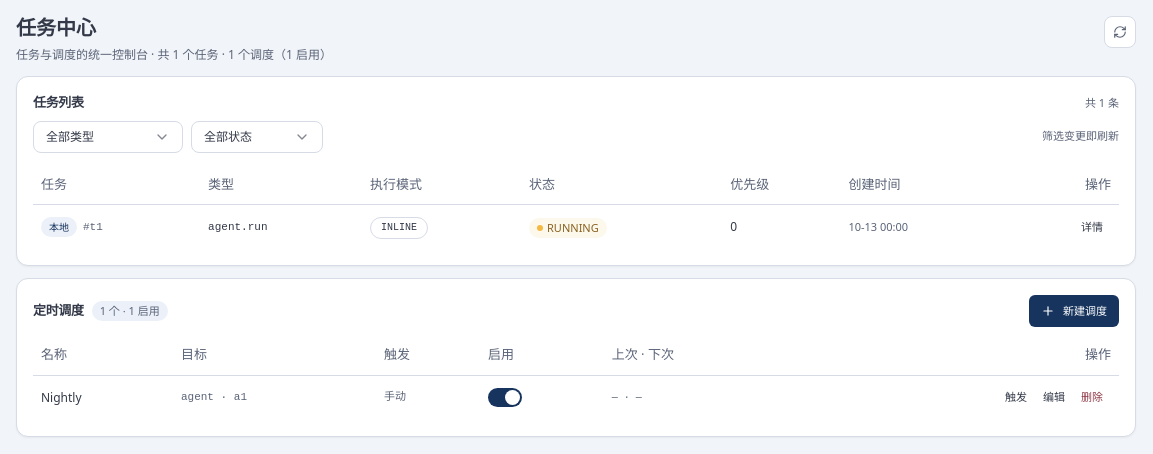
Scenario: Tasks › Schedules 区展示调度并可手动触发
The width and height of the screenshot is (1153, 454).
Expected: the row with test id "schedule-row-s1" shows "Nightly", [41,388,82,406]
What coordinates should you click on to do the following:
click the button with test id "schedule-trigger-s1"
I would click on:
 (1016, 398)
Its box is [997,384,1035,412].
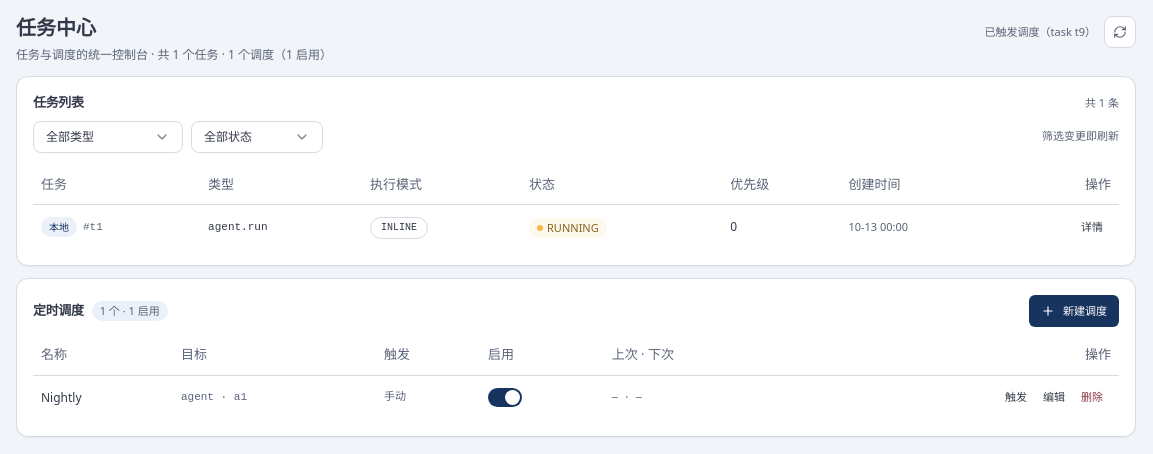
Now the text with test id "tasks-feedback" reads "已触发调度（task t9）", box [985,24,1096,39]
